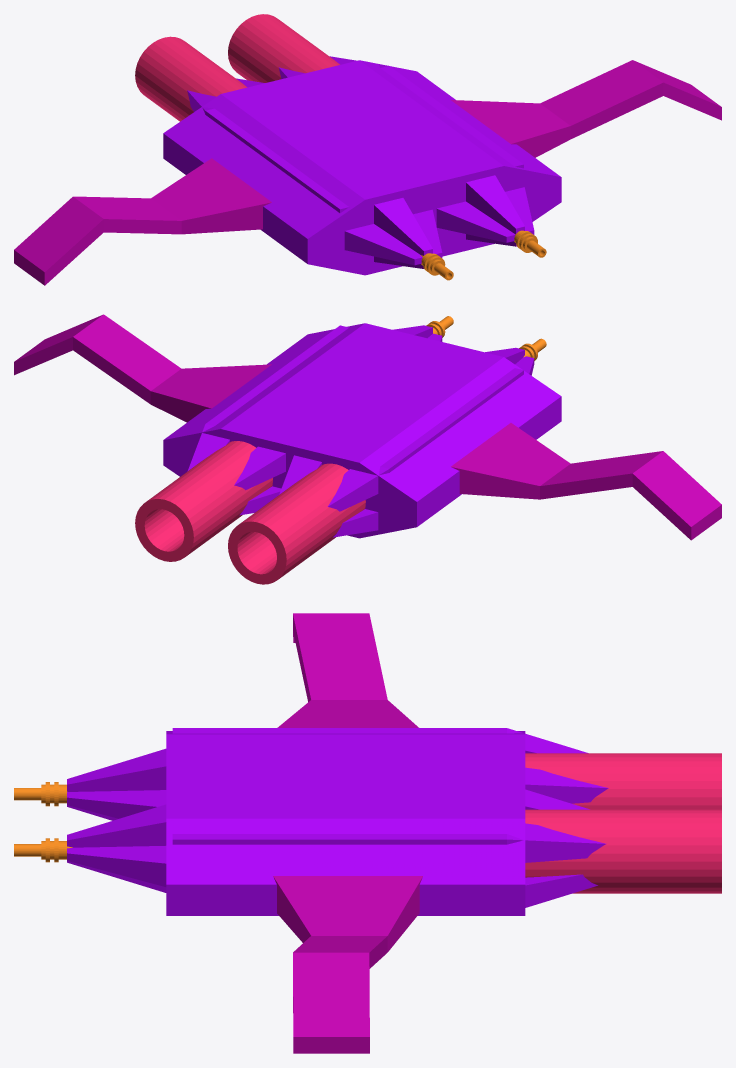
The model's file is player.glb.
3 renders of one model, top to bottom at view 1: azimuth 30°, elevation 25°; view 2: azimuth 150°, elevation 25°; view 3: azimuth 270°, elevation 25°, orthographic. The views are drawn at different scales.
Parts seen in each view (by area): view 1: Body, Wings, Enginge, Jets, Weapon; view 2: Body, Wings, Jets, Enginge, Weapon; view 3: Body, Wings, Enginge, Jets, Weapon.
Boxes of the visible parts, box(x1,y1,x2,y2) form: Body: box(163, 60, 561, 275); Wings: box(14, 60, 721, 285); Enginge: box(187, 56, 534, 268); Jets: box(135, 14, 339, 121); Weapon: box(421, 230, 546, 280); Body: box(163, 323, 561, 538); Wings: box(14, 314, 721, 540); Jets: box(135, 441, 365, 584); Enginge: box(187, 325, 534, 537); Weapon: box(426, 316, 546, 360); Body: box(166, 731, 525, 915); Wings: box(273, 613, 422, 1053); Enginge: box(67, 728, 608, 907); Jets: box(525, 753, 721, 893); Weapon: box(14, 782, 72, 862).
Size of the model in its own units: 4.38 by 0.4673 by 3.19.
1 material, 1 textured.
